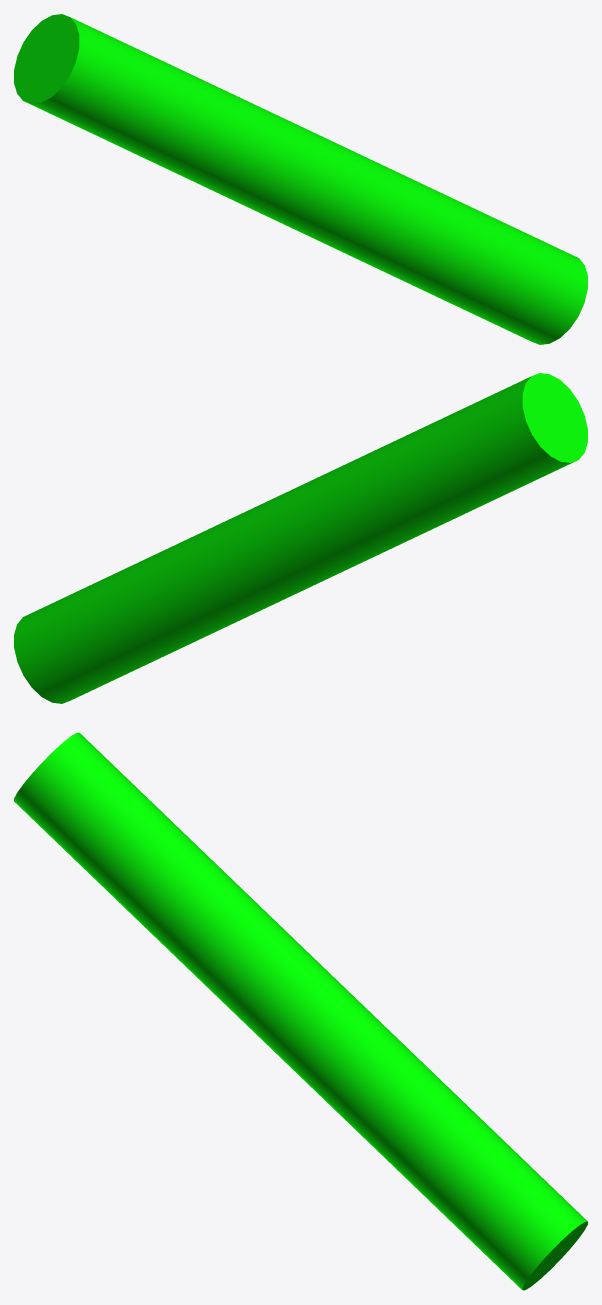
Rendered from leftarm.obj.
3 views of the same model, one above another, from view 1: azimuth 30°, elevation 25°; view 2: azimuth 150°, elevation 25°; view 3: azimuth 330°, elevation 25° (orthographic).
Visible parts, largest first — view 1: pCylinder2; view 2: pCylinder2; view 3: pCylinder2.
Part boxes in pixels (x1,y1,x2,y2): pCylinder2: (14,14,587,344); pCylinder2: (14,373,587,703); pCylinder2: (14,732,587,1290).
Size of the model in its own units: 52.87 by 39.73 by 7.61.
